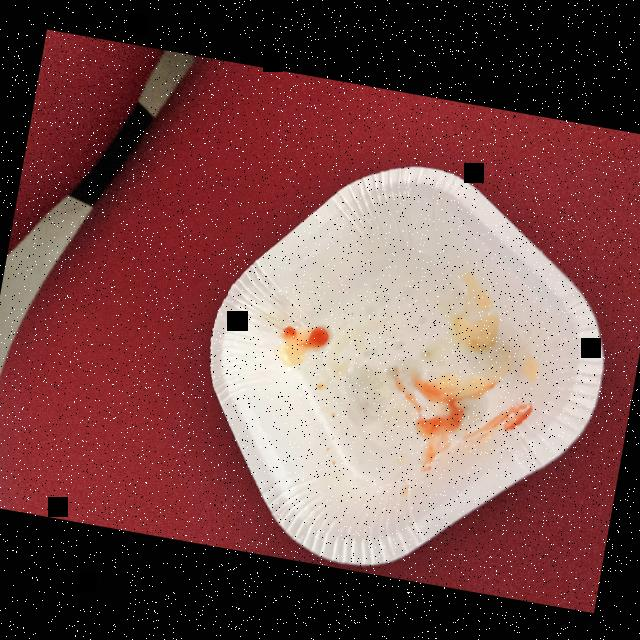cardboard_bowl: (163, 126, 640, 607)
